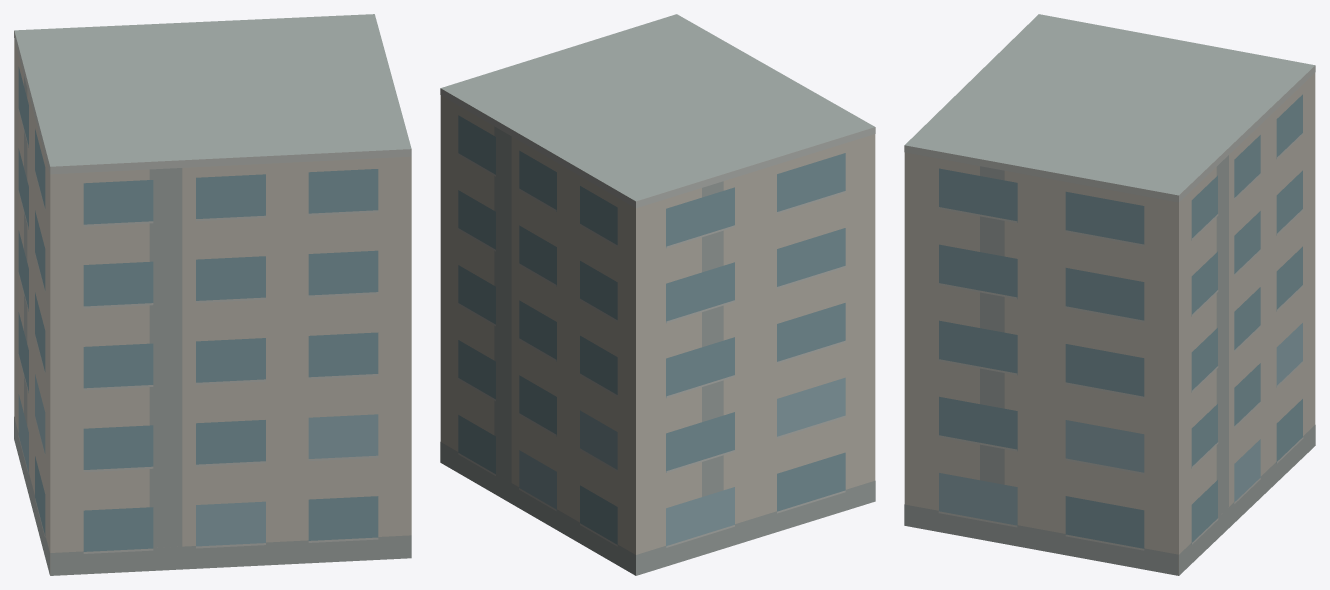
Rendered from survey-upis-32530245.glb.
3 renders of one model, left to right at view 1: azimuth 30°, elevation 25°; view 2: azimuth 150°, elevation 25°; view 3: azimuth 270°, elevation 25°, orthographic. The views are drawn at different scales.
Parts seen in each view (by area): view 1: survey-upis-32530245.tmp; view 2: survey-upis-32530245.tmp; view 3: survey-upis-32530245.tmp.
Part boxes in pixels (x1=…): survey-upis-32530245.tmp: x1=14, y1=14, x2=411, y2=575; survey-upis-32530245.tmp: x1=440, y1=14, x2=875, y2=575; survey-upis-32530245.tmp: x1=904, y1=14, x2=1315, y2=575.
Size of the model in its own units: 13.41 by 13.1 by 12.84.
